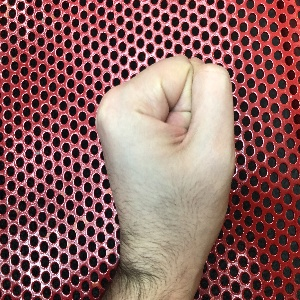hand: (95, 56, 232, 267)
